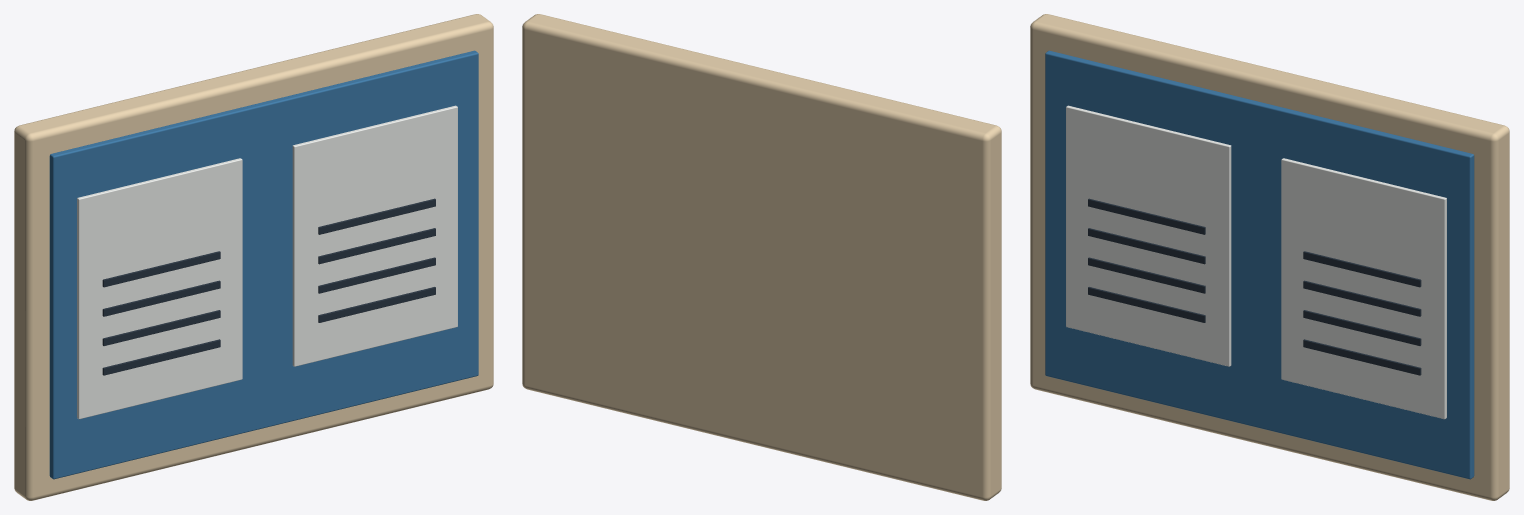
File: squash-club-and-racket-workshop-notice-board-cbe6b546__29777.glb
The picture shows the model from 3 angles, left to right: view 1: azimuth 30°, elevation 25°; view 2: azimuth 150°, elevation 25°; view 3: azimuth 330°, elevation 25°; orthographic projection.
Visible parts, largest first — view 1: notice-board; view 2: notice-board; view 3: notice-board.
Part boxes in pixels (box(x1,y1,x2,y2)): notice-board: box(14, 14, 493, 500); notice-board: box(522, 14, 1001, 500); notice-board: box(1030, 14, 1509, 500).
Bounding box in the file's own units: 1 × 0.75 × 0.089.
